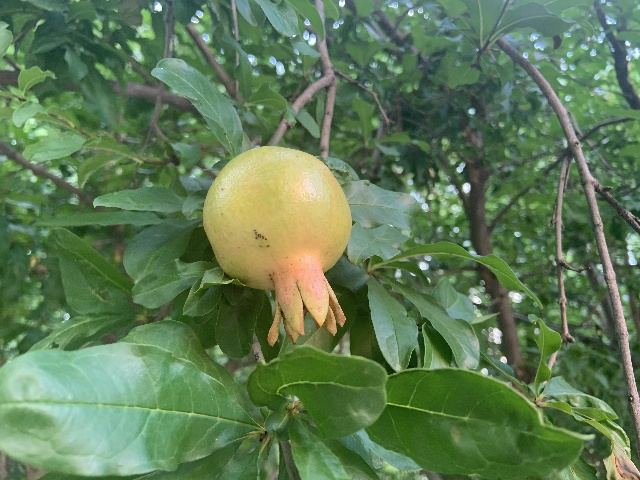mid-growth: (202, 145, 353, 348)
